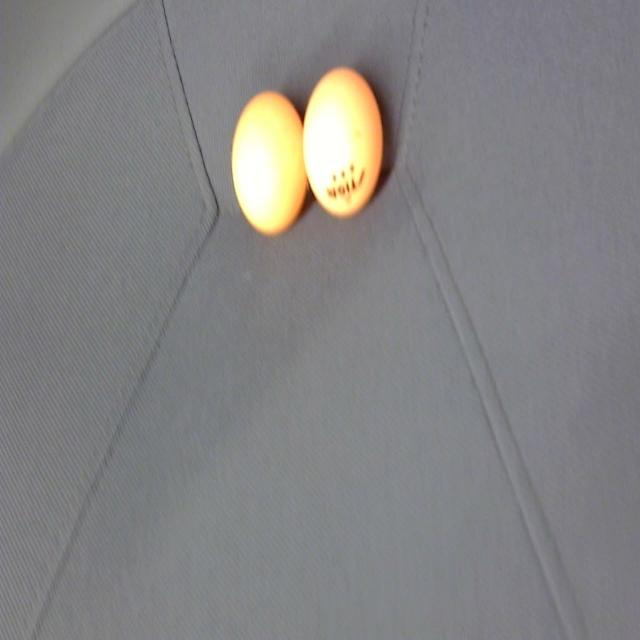ball: (302, 65, 386, 219), (231, 87, 309, 238)
